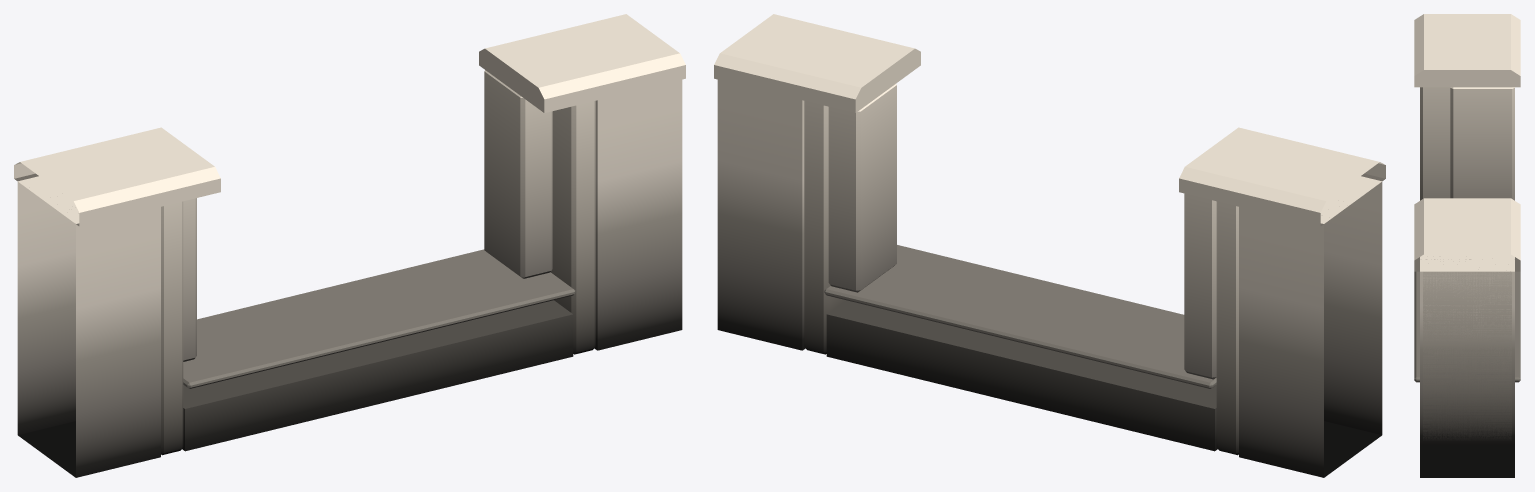
Rendered from SM_VKI_Wall_Ashlar_DoorWide_300_Cut.fbx.
3 views of the same model, side by side, from view 1: azimuth 30°, elevation 25°; view 2: azimuth 150°, elevation 25°; view 3: azimuth 270°, elevation 25° (orthographic). The views are drawn at different scales.
Visible parts, largest first — view 1: SM_VKI_Wall_Ashlar_DoorWide_300_Cut.001; view 2: SM_VKI_Wall_Ashlar_DoorWide_300_Cut.001; view 3: SM_VKI_Wall_Ashlar_DoorWide_300_Cut.001.
Part boxes in pixels (<box>): SM_VKI_Wall_Ashlar_DoorWide_300_Cut.001: <box>14,14,685,477</box>; SM_VKI_Wall_Ashlar_DoorWide_300_Cut.001: <box>714,14,1385,477</box>; SM_VKI_Wall_Ashlar_DoorWide_300_Cut.001: <box>1414,14,1520,477</box>.
Bounding box in the file's own units: 3 × 1.3 × 0.56.
